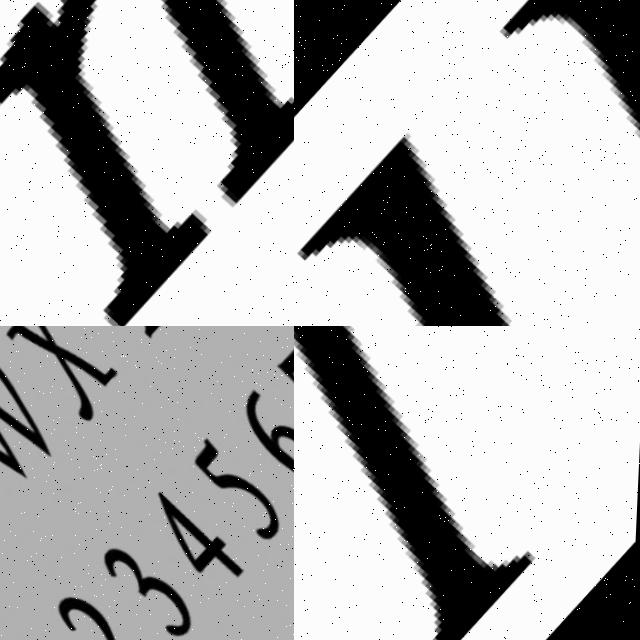2: (20, 557, 189, 640)
3: (78, 520, 219, 640)
4: (121, 467, 273, 609)
5: (161, 410, 294, 563)
6: (207, 362, 294, 514)
7: (254, 326, 294, 464)
L: (294, 326, 627, 640)
M: (0, 0, 294, 326)
U: (294, 0, 640, 326)
